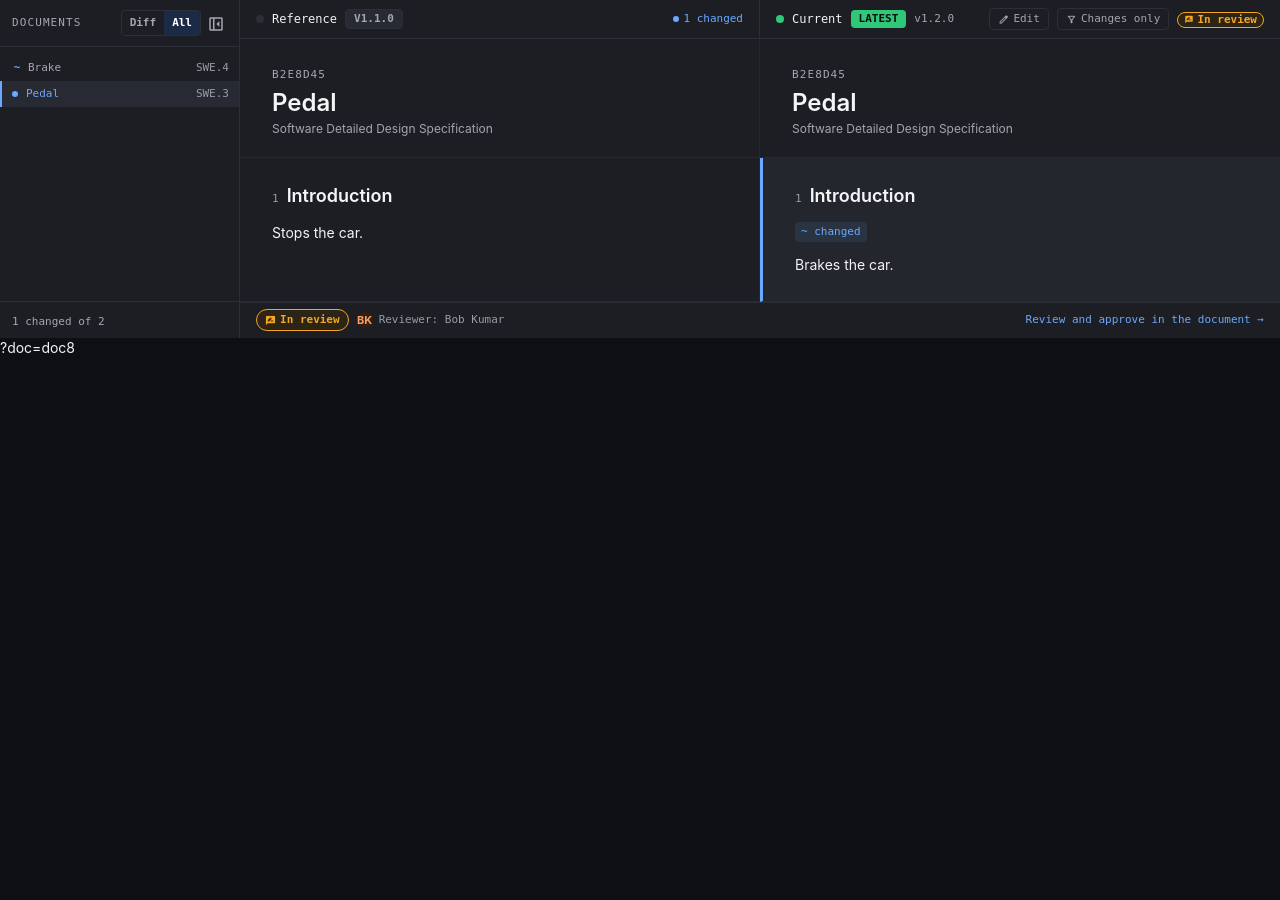
Test case: ComparePage: Cancel in edit mode › puts back the texts corrected since Edit, after asking
Click the button "Edit" at [1019, 19], box [989,8,1049,30]
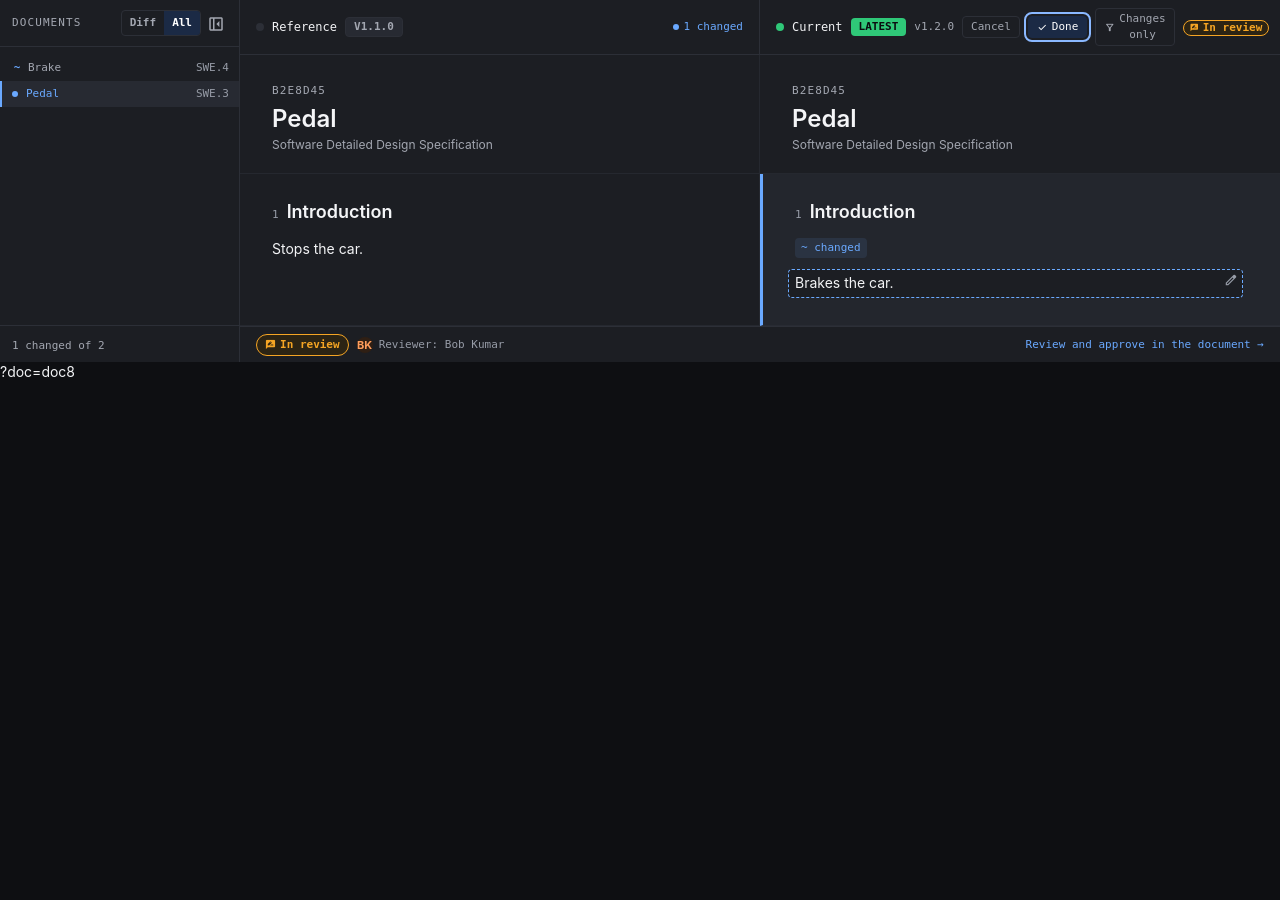
Replace the text in the text box named "Correct this text" with "Slows the car." at [1016, 284], box [789,270,1242,297]
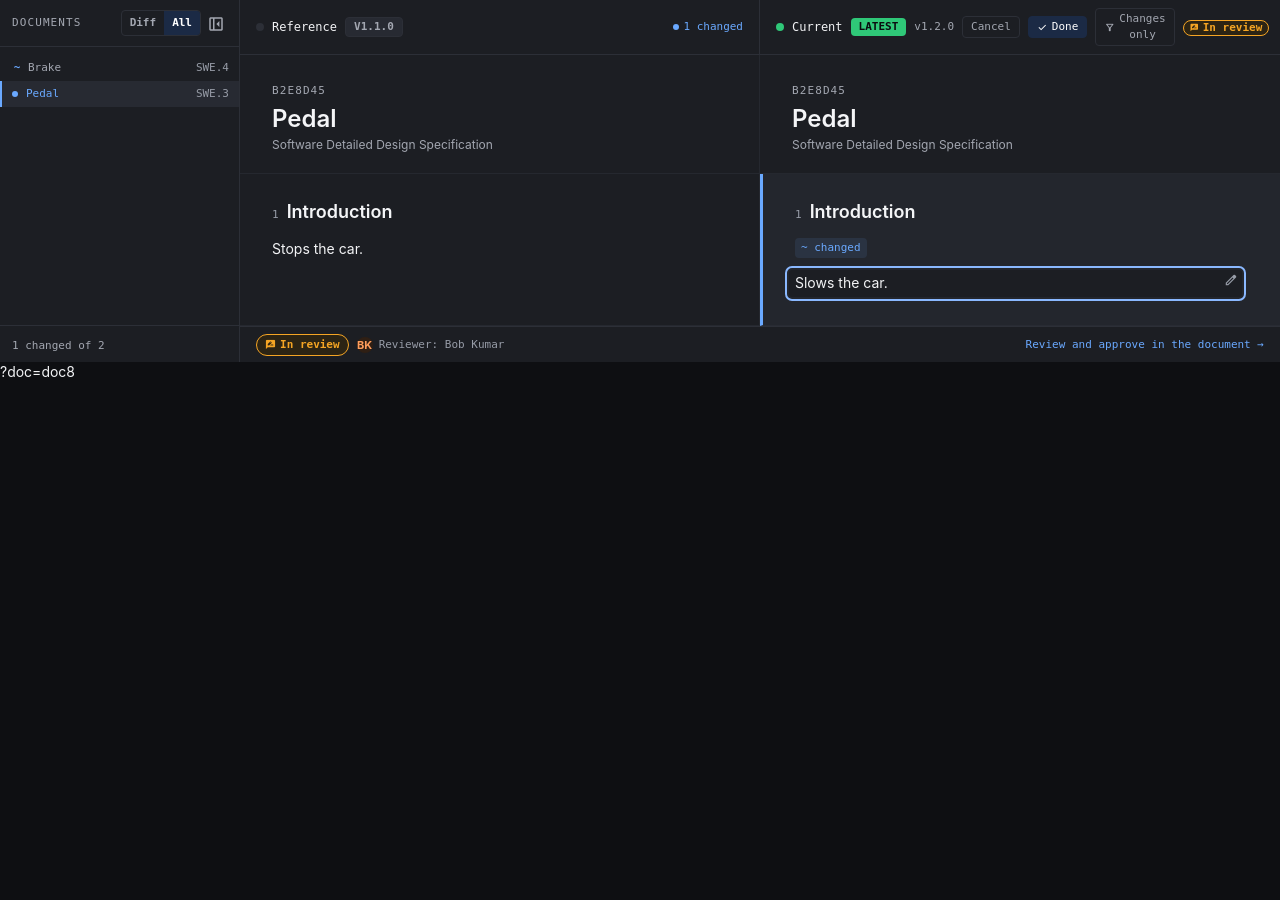
Click the button "Cancel" at [991, 27], box [962,16,1020,38]
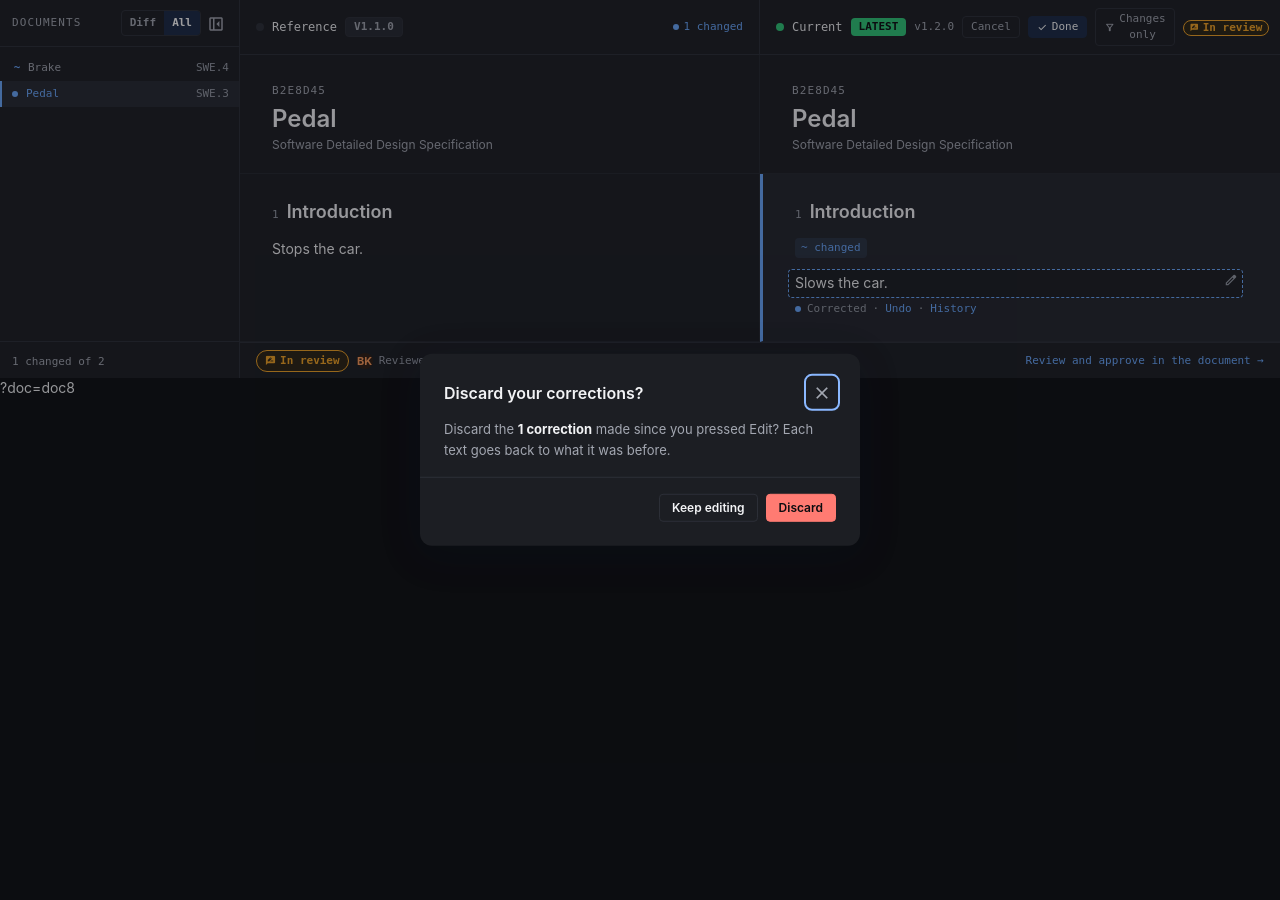
Expected: the dialog "Discard your corrections?" does not show "Flowchart", [420,354,860,546]
Expected: the dialog "Discard your corrections?" shows "Discard the 1 correction made since you pressed Edit? Each text goes back to what it was before.", [420,354,860,546]
Click the button "Discard" at [801, 508], box [766,494,836,522]
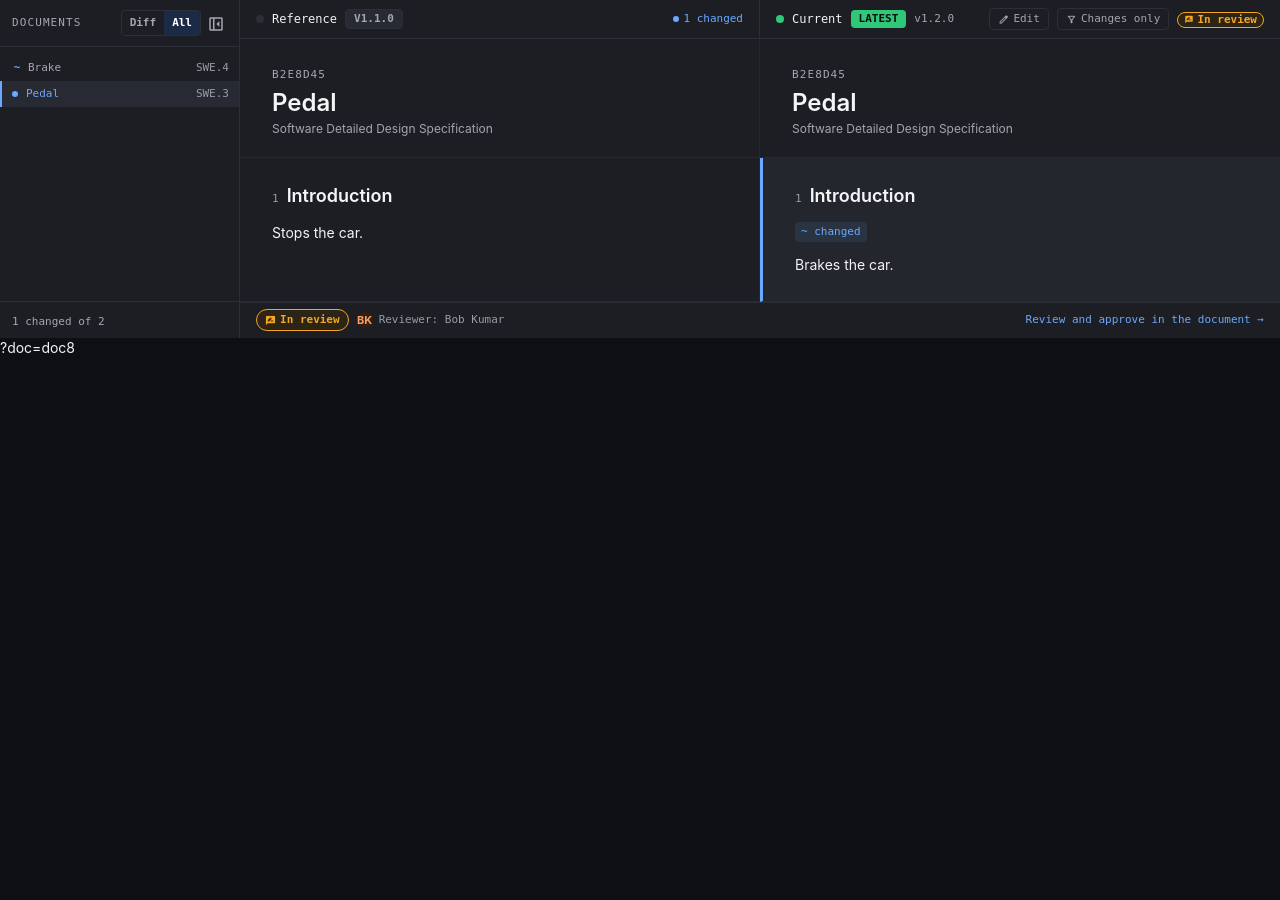
Expected: the button "Edit" is shown, [989,8,1049,30]
